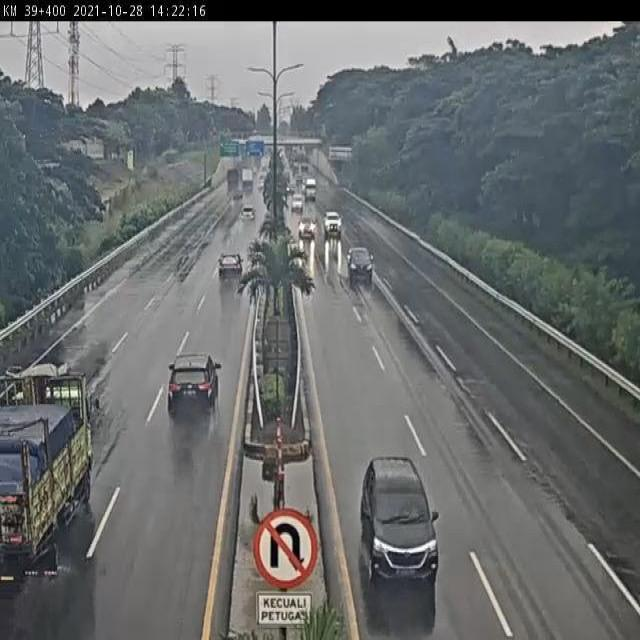car: (355, 454, 447, 594), (161, 348, 233, 432), (340, 240, 375, 279), (210, 256, 244, 292), (236, 205, 259, 232), (296, 211, 315, 236), (321, 208, 339, 233), (289, 191, 305, 212)
small truck: (0, 365, 87, 604)
